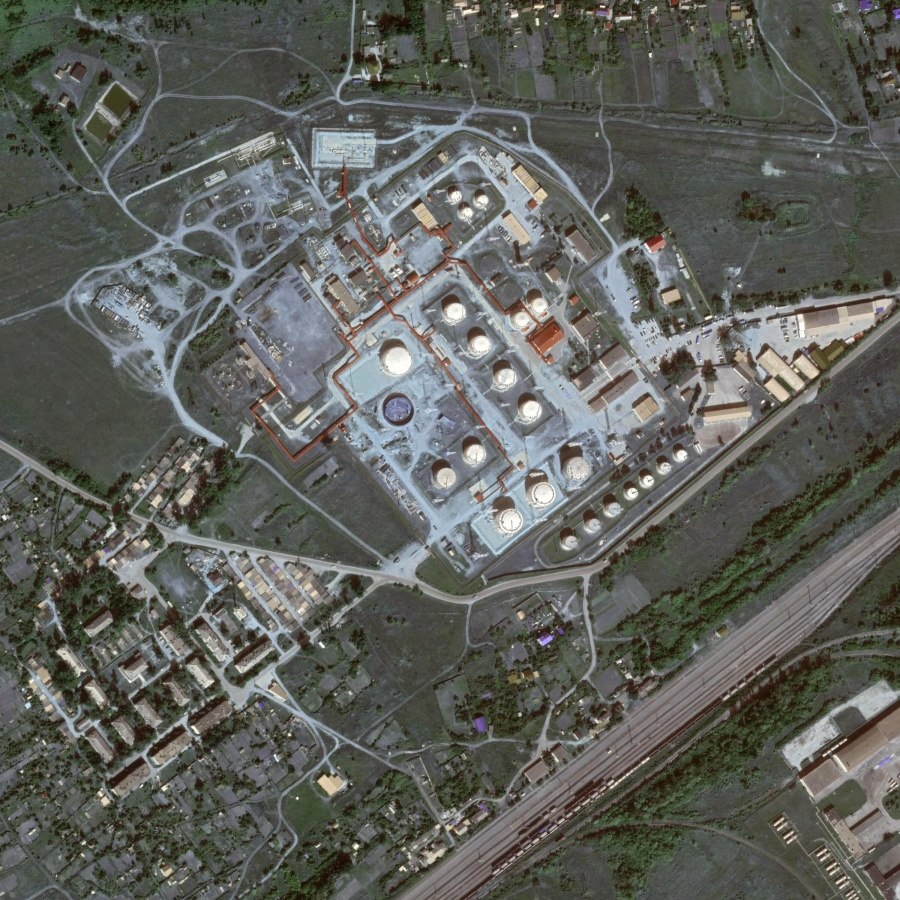PowerPlant: (381, 261, 694, 552)
